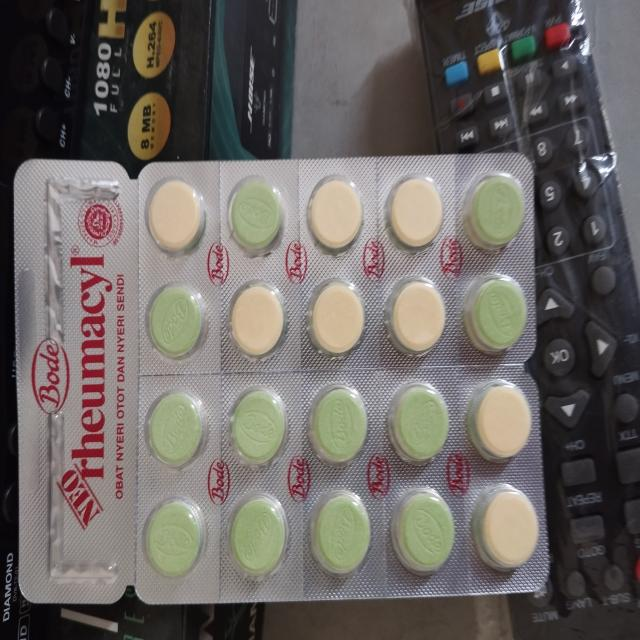B3: (13, 150, 551, 601)
